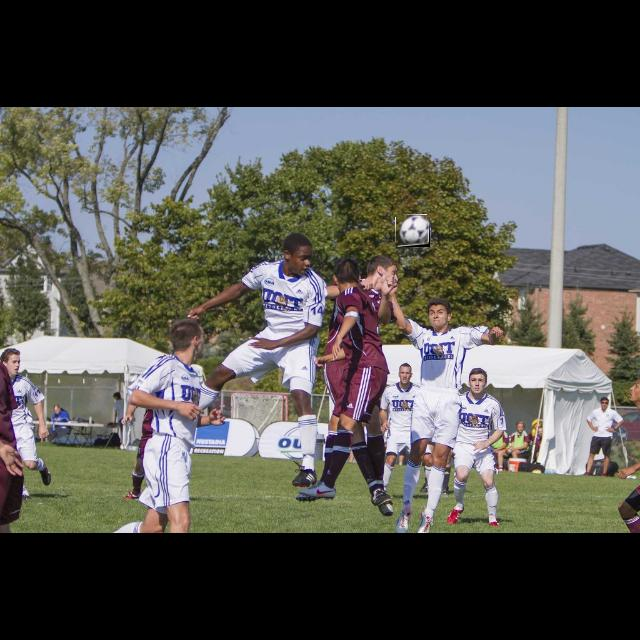Football: (396, 215, 430, 247)
